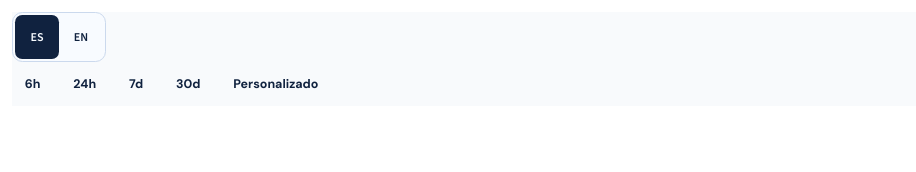
Test: language selection › translates an existing validation error without applying or resetting a custom range
This screenshot has width=916, height=172.
Click the button "Personalizado" at point(276, 84), box [220, 62, 331, 106]
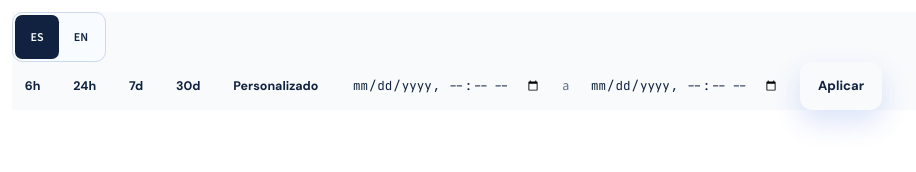
Type "2026-09-09T12:00" into the field named "Fecha y hora inicial" at point(447, 86), box [338, 62, 555, 110]
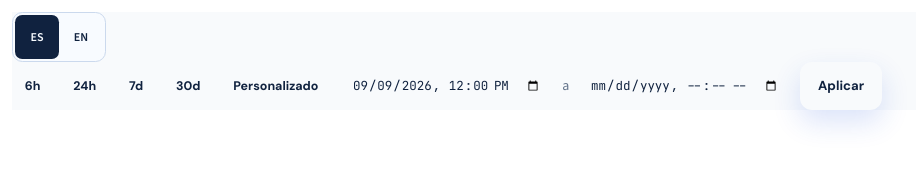
Click the button "Aplicar" at point(841, 86), box [800, 62, 882, 110]
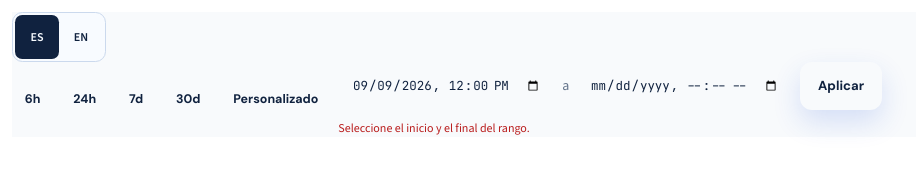
Expected: the message shows "Seleccione el inicio", [338, 120, 530, 136]
Click the button with aria-label "English" at point(81, 37), box [59, 15, 103, 59]
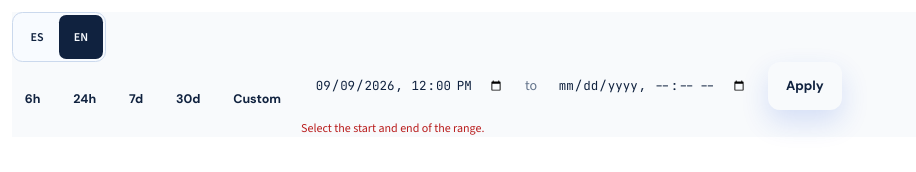
Expected: the message shows "Select the start and end", [301, 120, 484, 136]
